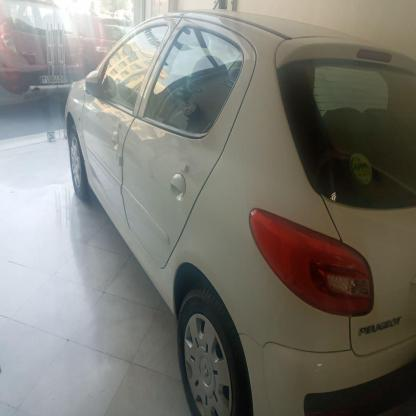Car: (52, 0, 416, 416)
